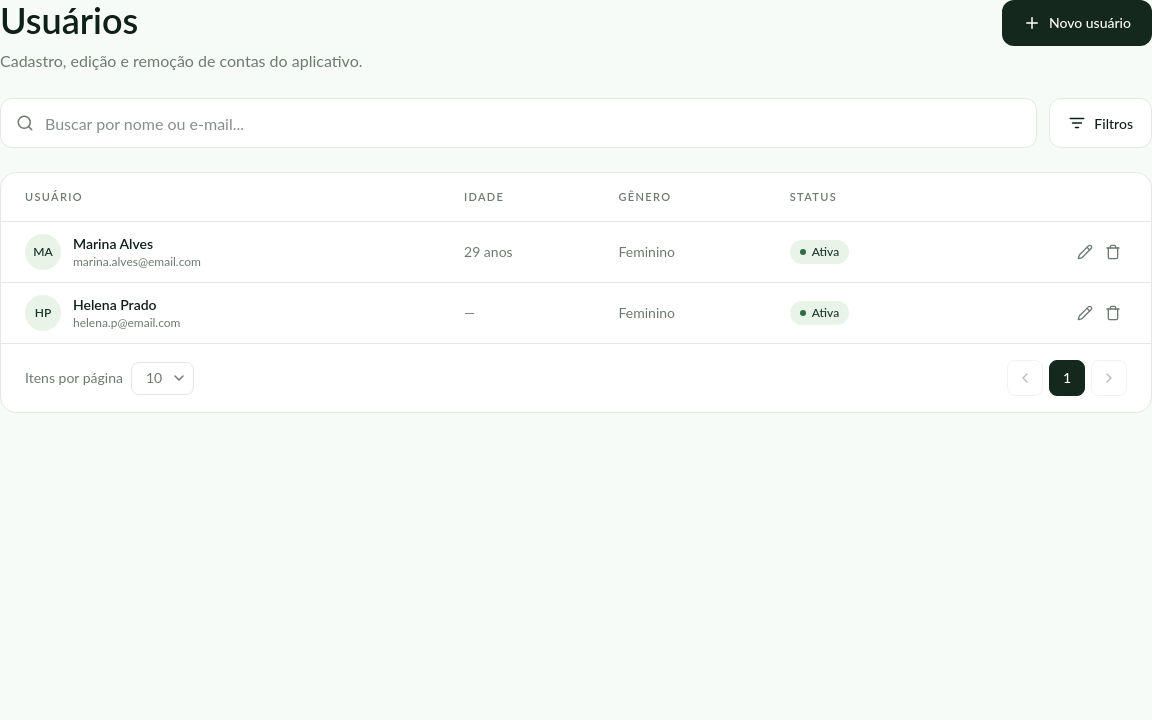
it: Users › keeps the confirmation open when deactivation fails
The width and height of the screenshot is (1152, 720).
Expected: the text "Marina Alves" is shown, [73,235,153,252]
Click the button named "Desativar usuário: Marina Alves" at (1113, 252), box [1099,238,1127,266]
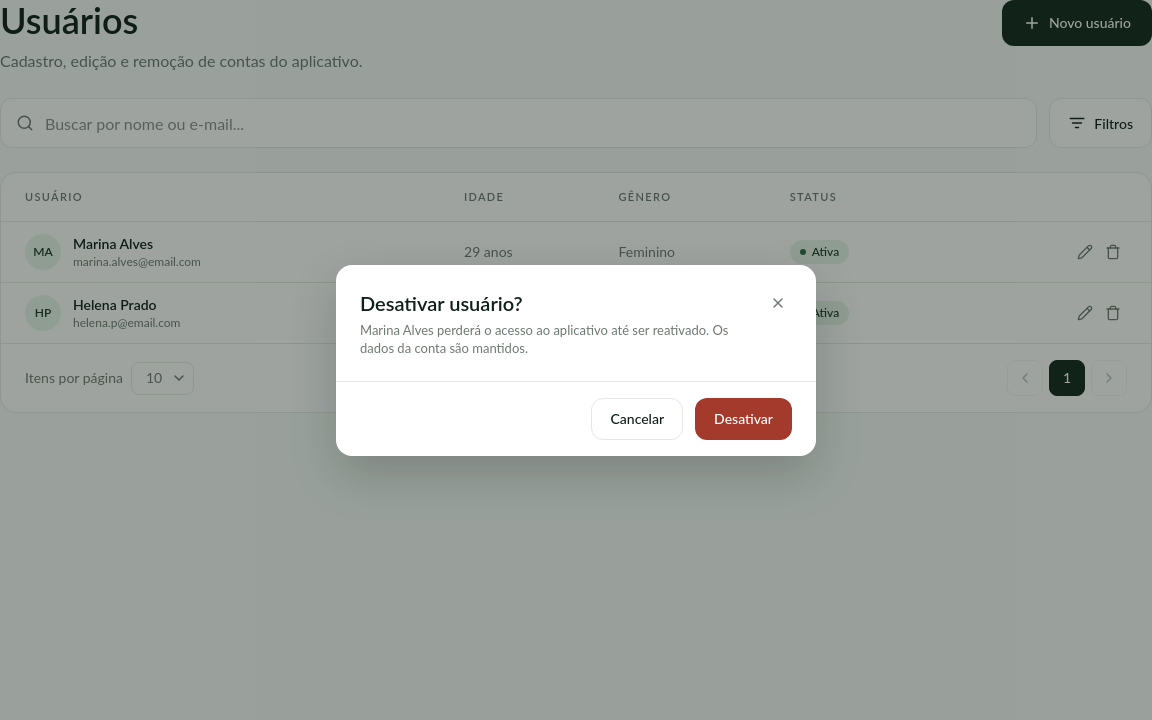
Click the button "Desativar" at (744, 418), box [695,398,792,440]
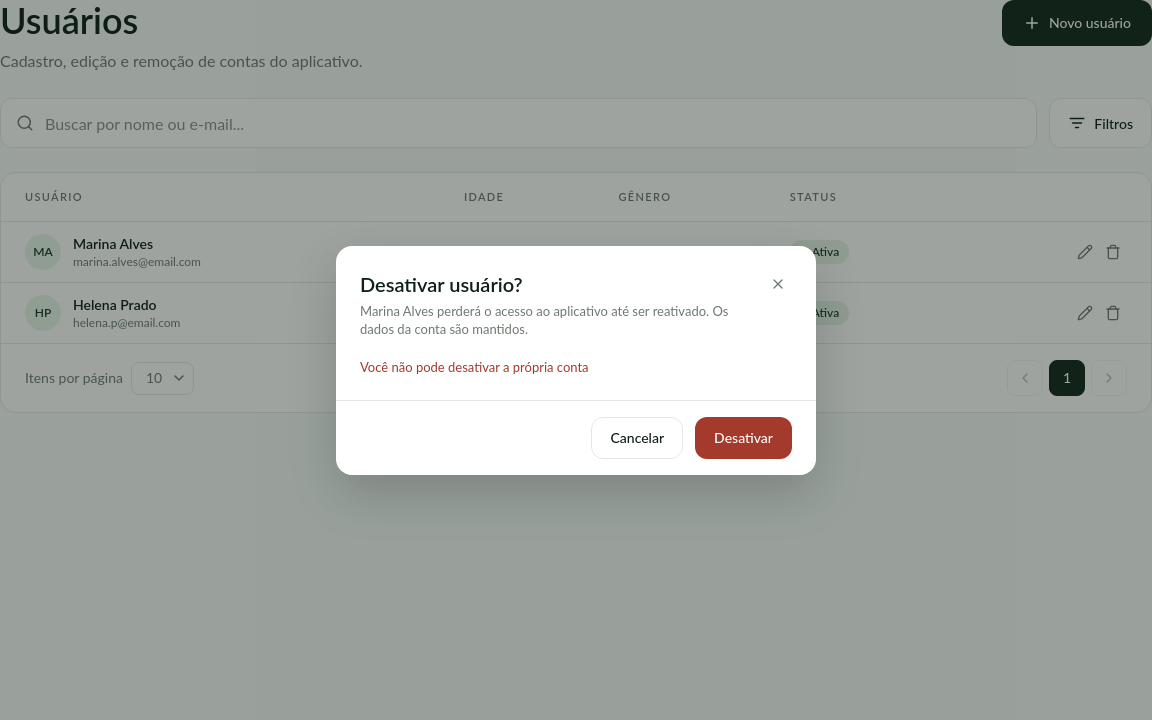
Expected: the message reads "Você não pode desativar a própria conta", [360,358,589,374]
